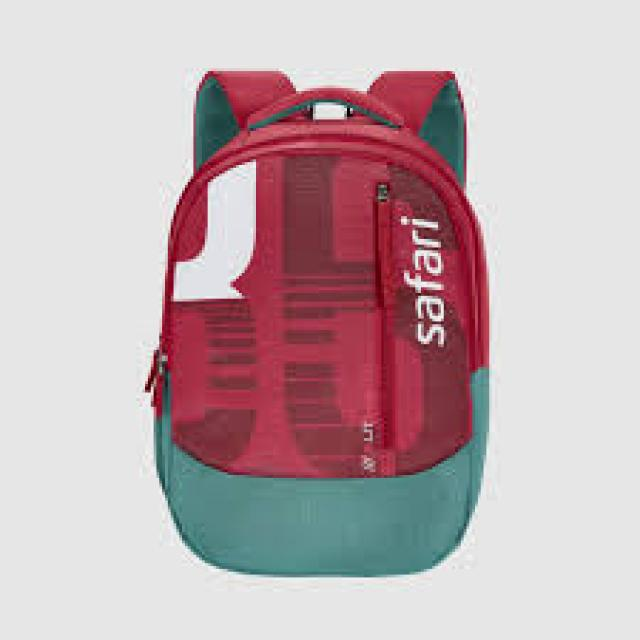backpack: (143, 67, 490, 576)
